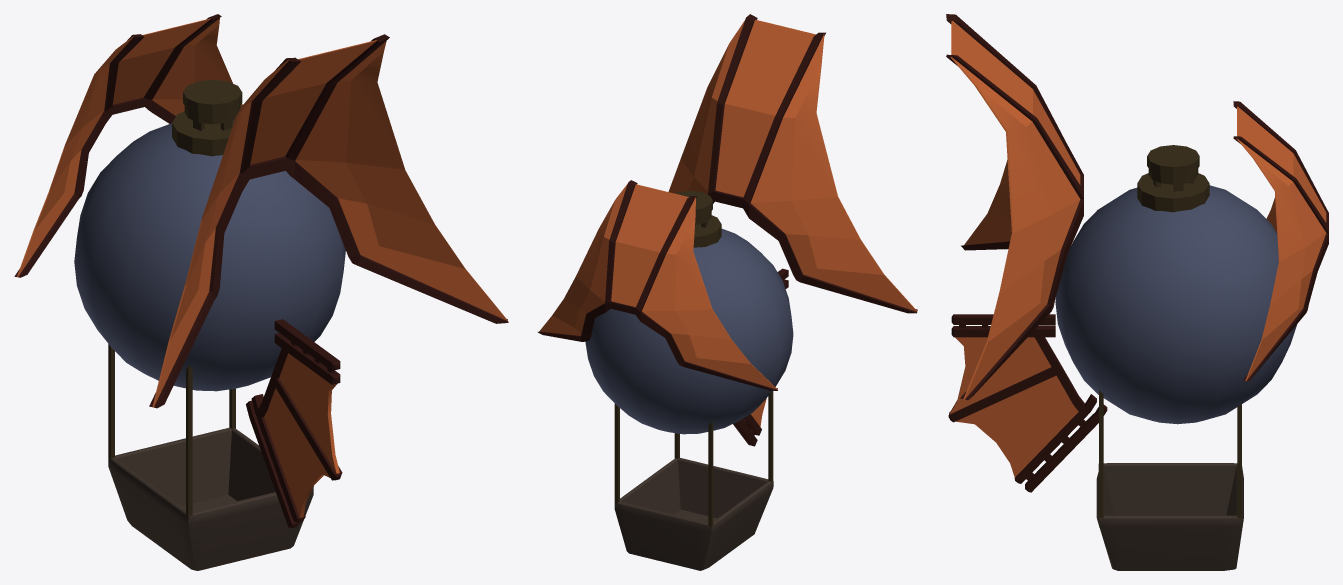
File: obj_airship_v1.fbx
3 views of the same model, side by side, from view 1: azimuth 30°, elevation 25°; view 2: azimuth 150°, elevation 25°; view 3: azimuth 270°, elevation 25° (orthographic). The views are drawn at different scales.
Parts seen in each view (by area): view 1: msh_balloon, msh_sail_back, msh_basket, msh_sail_front, msh_steering_fin, msh_vent; view 2: msh_sail_back, msh_balloon, msh_sail_front, msh_basket, msh_vent, msh_steering_fin; view 3: msh_balloon, msh_sail_back, msh_basket, msh_steering_fin, msh_sail_front, msh_vent.
Boxes of the visible parts, x1,y1,x2,y2 form: msh_balloon: [74, 123, 345, 391]; msh_sail_back: [149, 34, 508, 408]; msh_basket: [108, 344, 313, 570]; msh_sail_front: [14, 14, 242, 277]; msh_steering_fin: [246, 319, 342, 527]; msh_vent: [172, 79, 242, 156]; msh_sail_back: [668, 14, 917, 313]; msh_balloon: [585, 228, 793, 434]; msh_sail_front: [537, 180, 777, 390]; msh_basket: [614, 390, 773, 570]; msh_vent: [675, 191, 721, 247]; msh_steering_fin: [733, 268, 788, 446]; msh_balloon: [1055, 185, 1297, 424]; msh_sail_back: [946, 14, 1083, 400]; msh_basket: [1096, 390, 1243, 570]; msh_steering_fin: [948, 314, 1107, 492]; msh_sail_front: [1233, 101, 1328, 381]; msh_vent: [1137, 145, 1209, 212].
Size of the model in its own units: 24.07 by 37.27 by 24.99.
